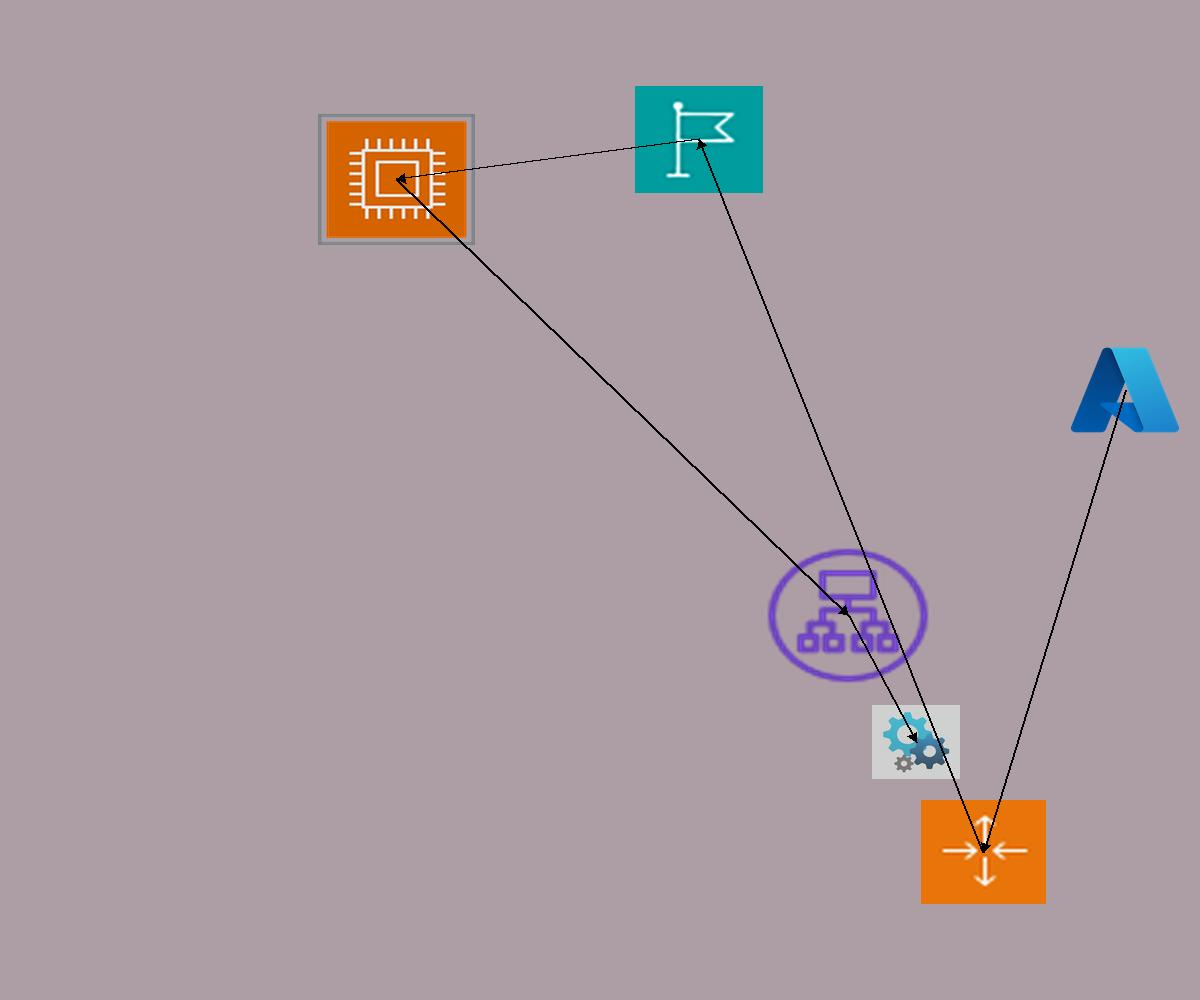AWS-Category_Compute: (318, 114, 475, 245)
AWS-Region: (635, 86, 763, 193)
AWS-Res_Elastic-Load-Balancing_Application-Load-Balancer: (761, 543, 935, 688)
AWS-Scaling-group: (921, 800, 1046, 904)
Azure_api: (872, 705, 960, 779)
Azure_services: (1066, 341, 1184, 439)
